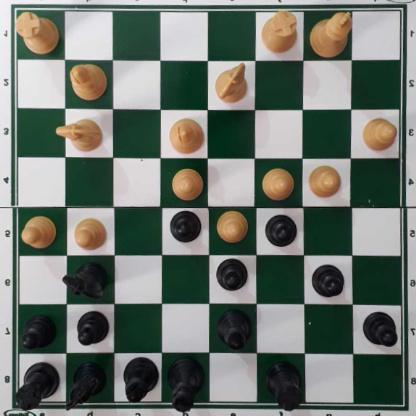black-bishop: (123, 357, 159, 405), (218, 310, 251, 352)
black-king: (167, 360, 205, 413)
black-knight: (68, 362, 105, 413), (62, 265, 106, 301)
black-pawn: (362, 311, 398, 349), (21, 317, 56, 352), (215, 259, 249, 293), (311, 265, 344, 300), (76, 312, 107, 349), (265, 215, 297, 250), (169, 212, 202, 245)
black-rook: (14, 363, 59, 415), (264, 363, 303, 412)
white-bishop: (69, 60, 108, 102), (168, 119, 205, 156)
white-king: (309, 11, 352, 60)
white-knight: (55, 117, 102, 153), (213, 64, 249, 105)
white-pawn: (360, 117, 397, 153), (307, 165, 341, 201), (21, 217, 57, 250), (73, 218, 107, 252), (213, 213, 249, 245), (261, 168, 294, 202), (171, 170, 203, 204)
white-rook: (14, 13, 59, 56), (261, 12, 298, 53)
